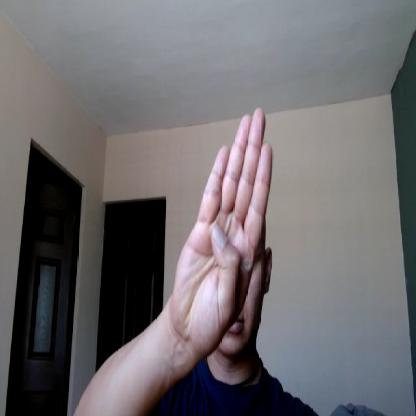B: (172, 106, 275, 352)
